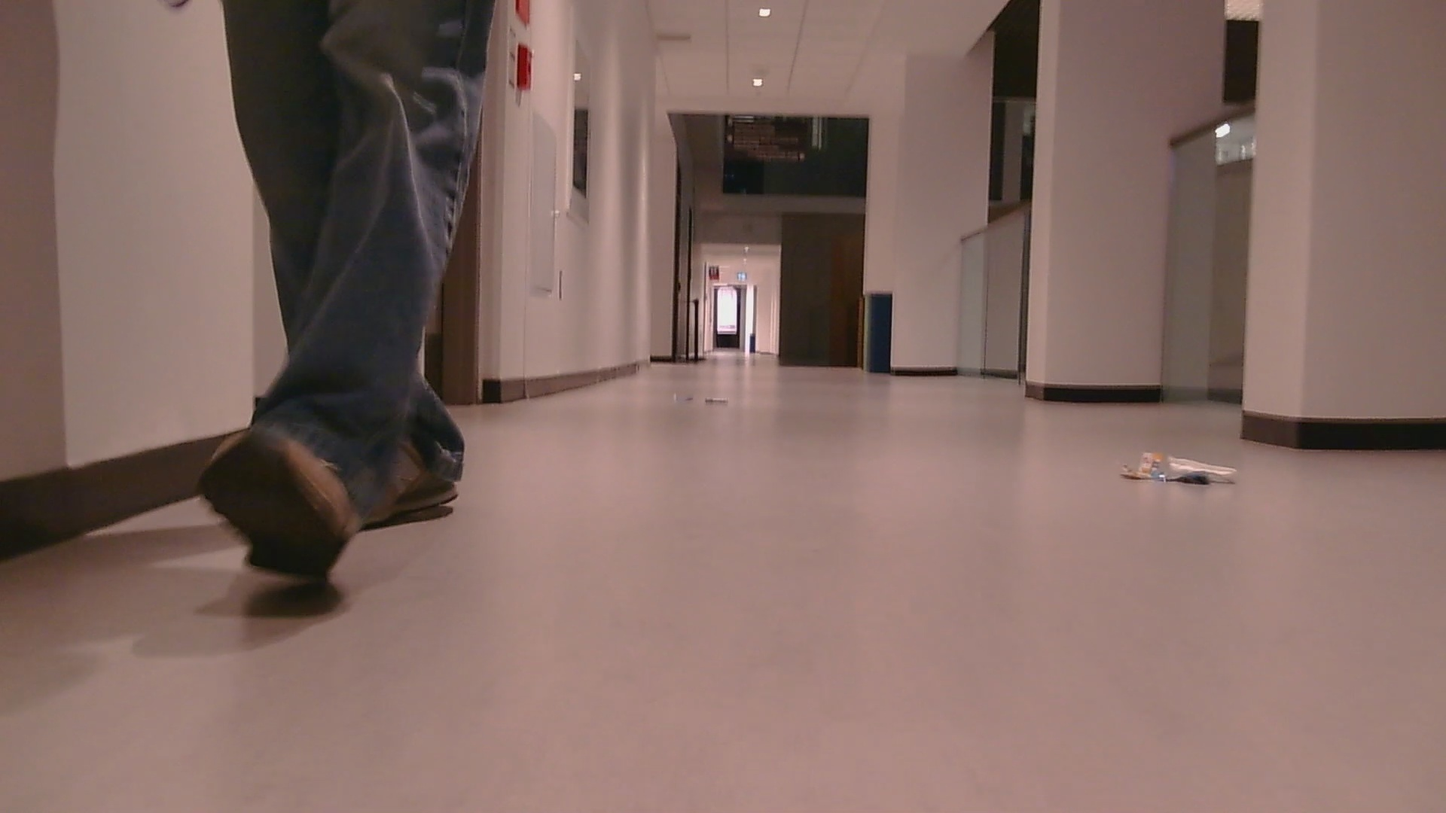carton: (1122, 444, 1269, 508), (703, 388, 749, 413), (673, 390, 701, 412)
